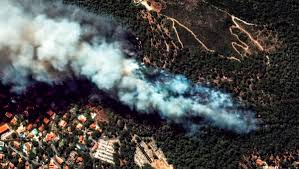smoke: (1, 3, 106, 86), (144, 70, 261, 134), (85, 44, 148, 97)
